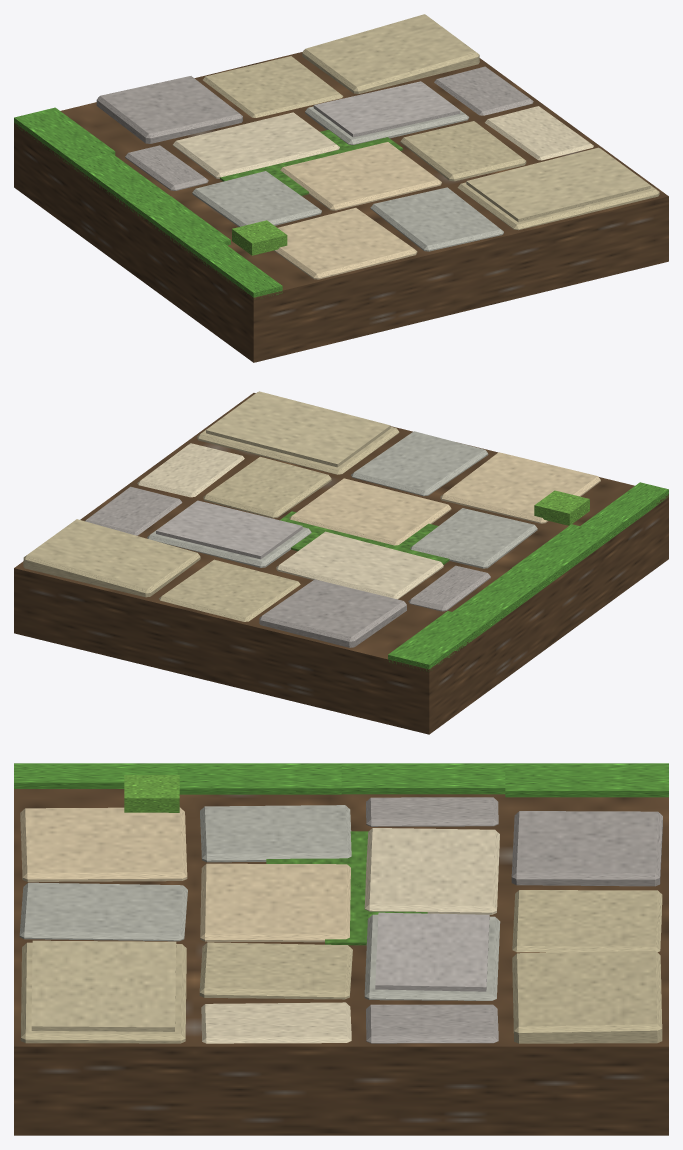
The model's file is Chemin_T_B.obj.
The picture shows the model from 3 angles, top to bottom: view 1: azimuth 30°, elevation 25°; view 2: azimuth 150°, elevation 25°; view 3: azimuth 270°, elevation 25°; orthographic projection. The views are drawn at different scales.
Parts seen in each view (by area): view 1: Chemin_T_B; view 2: Chemin_T_B; view 3: Chemin_T_B.
Boxes of the visible parts, x1,y1,x2,y2 form: Chemin_T_B: (14,14,668,362); Chemin_T_B: (14,391,668,734); Chemin_T_B: (14,763,668,1135).
Bounding box in the file's own units: 8 × 1.48 × 8.
1 material, 1 textured.
